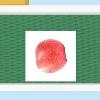raw: (34, 38, 68, 74)
